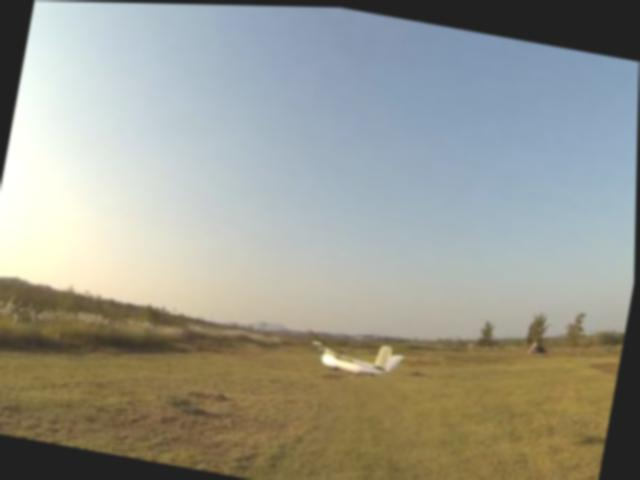uav: (297, 316, 412, 395)
